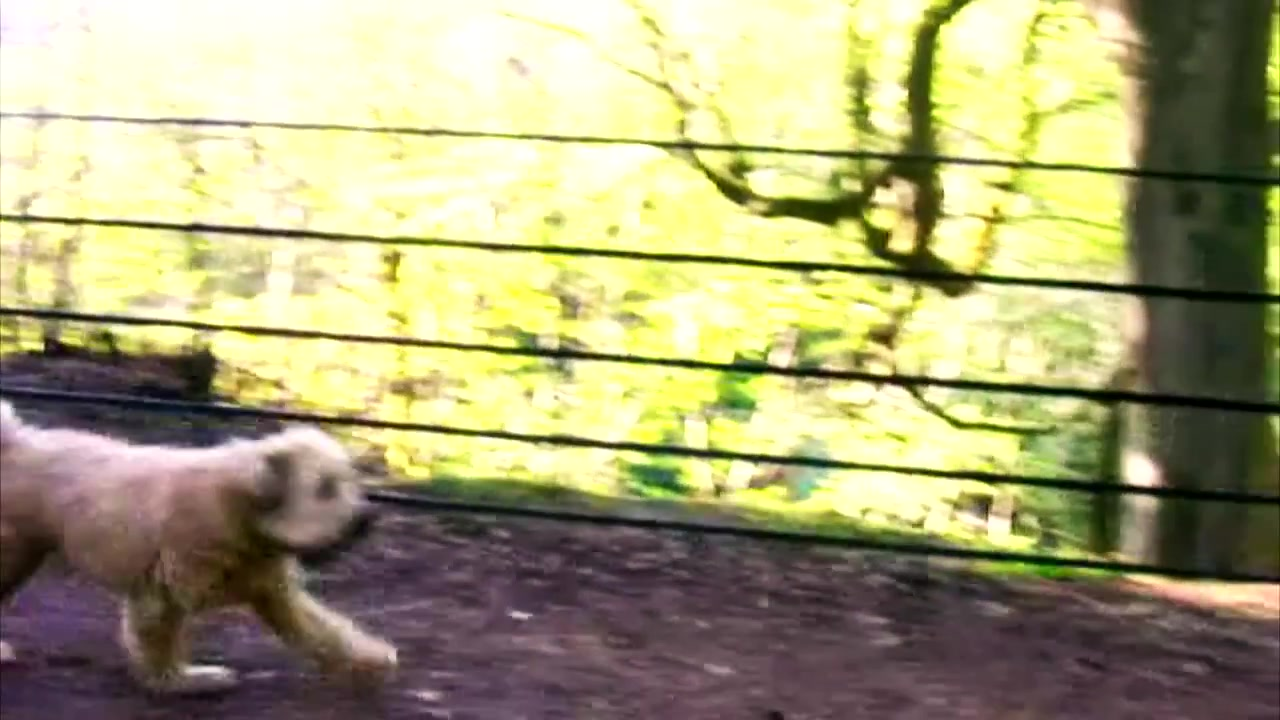dog: (4, 393, 406, 692)
